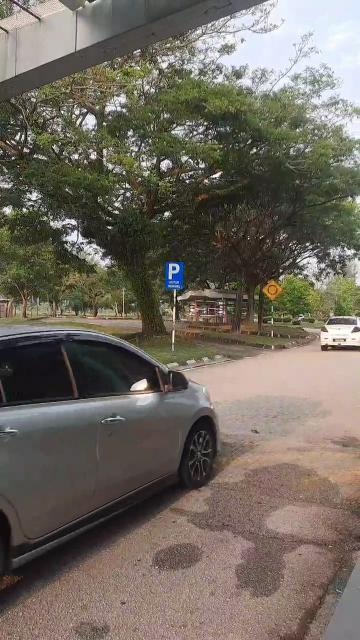car: (1, 324, 227, 593), (321, 310, 360, 355)
